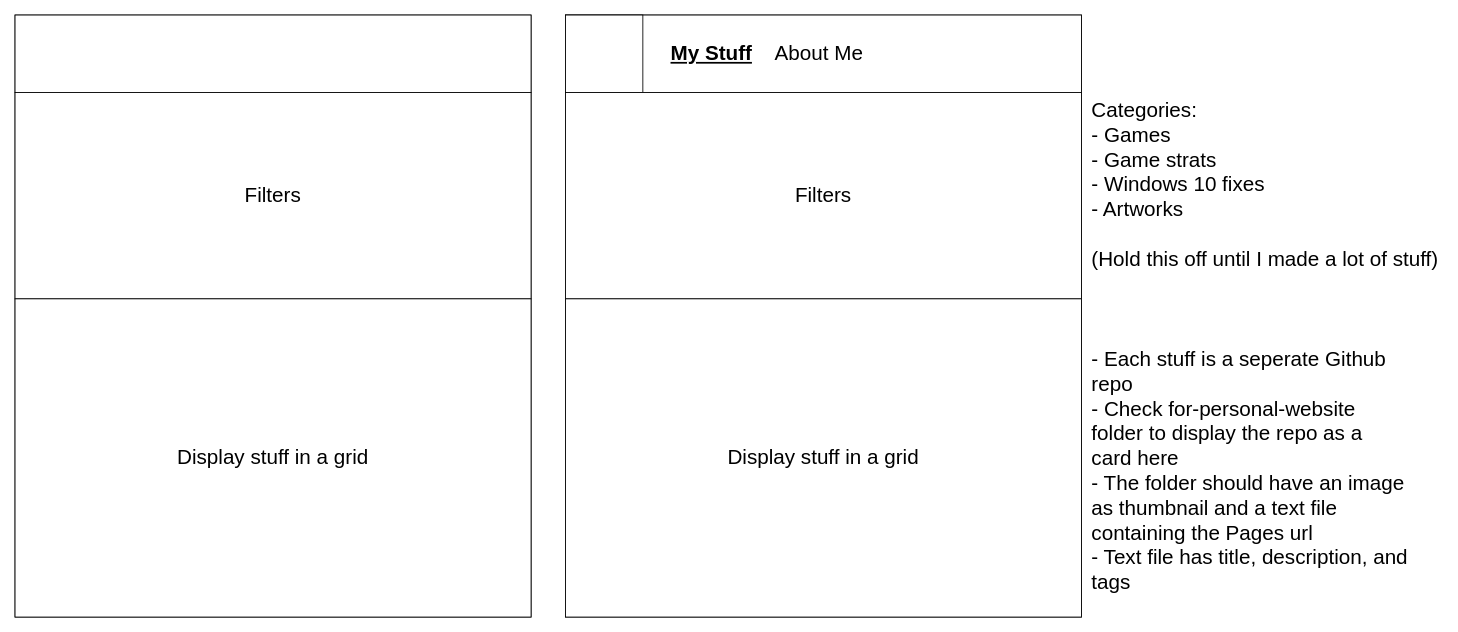
Some shapes in this 1458 by 632 pixel diagram are drawn without their labels. Here are the shapes that lost their labels. From the top down, the box of each, then its label:
(14, 14, 531, 92): Header
(565, 14, 643, 92): Logo
